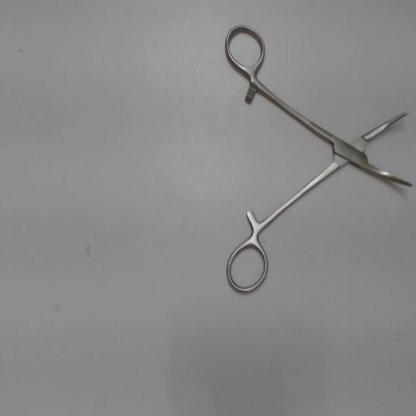Crile Artery Forceps: (221, 19, 414, 300)
